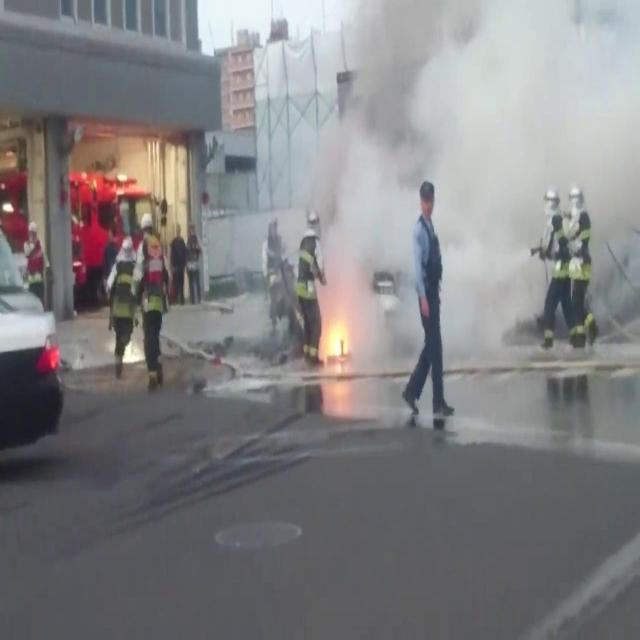Fire: (323, 321, 351, 356)
